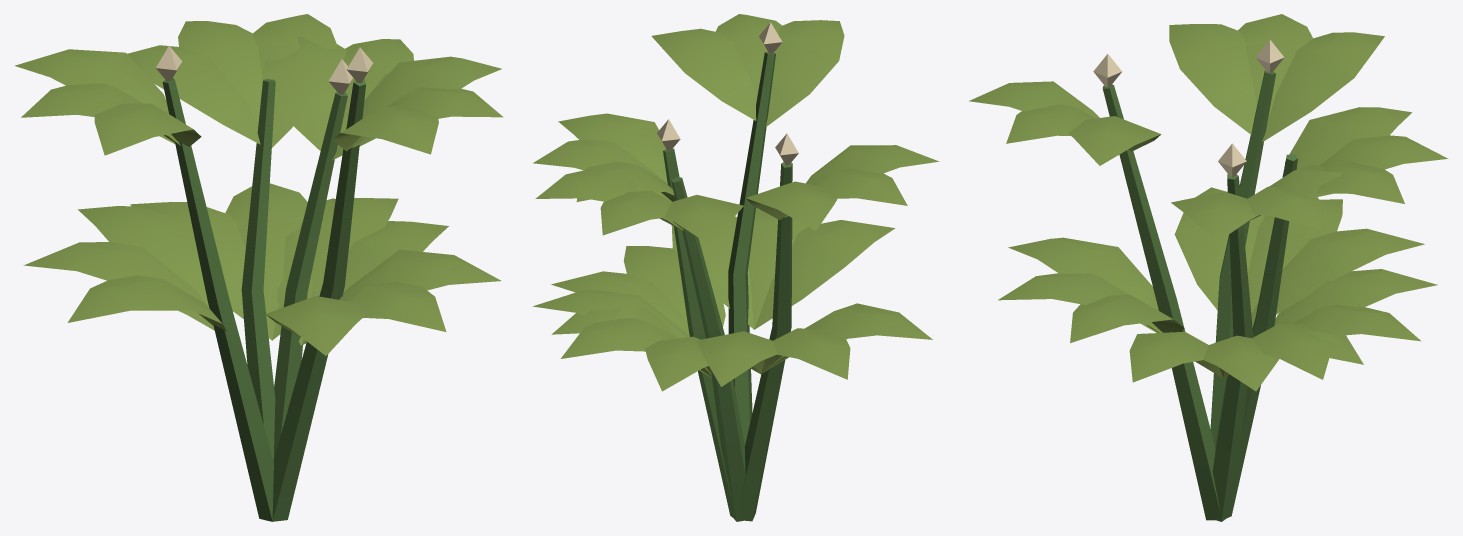
The model's file is crop_potato_growing.glb.
3 renders of one model, left to right at view 1: azimuth 30°, elevation 25°; view 2: azimuth 150°, elevation 25°; view 3: azimuth 270°, elevation 25°, orthographic. The views are drawn at different scales.
Visible parts, largest first — view 1: potato_growing_leaf_00_000, potato_growing_stem_00, potato_bud_00; view 2: potato_growing_leaf_00_000, potato_growing_stem_00, potato_bud_00; view 3: potato_growing_leaf_00_000, potato_growing_stem_00, potato_bud_00.
Part boxes in pixels (bbox=[...]): potato_growing_leaf_00_000: bbox=[14, 14, 503, 355]; potato_growing_stem_00: bbox=[162, 78, 365, 521]; potato_bud_00: bbox=[156, 46, 373, 94]; potato_growing_leaf_00_000: bbox=[532, 14, 938, 391]; potato_growing_stem_00: bbox=[663, 52, 792, 521]; potato_bud_00: bbox=[657, 22, 798, 165]; potato_growing_leaf_00_000: bbox=[969, 14, 1448, 391]; potato_growing_stem_00: bbox=[1102, 70, 1297, 521]; potato_bud_00: bbox=[1093, 40, 1284, 177].
Bounding box in the file's own units: 0.5097 × 0.5777 × 0.5284.
